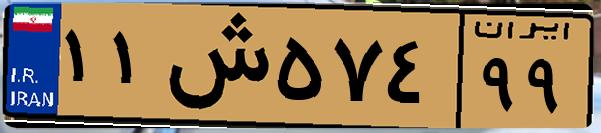1: (57, 26, 110, 100), (110, 28, 158, 98)
4: (385, 28, 445, 110)
5: (270, 28, 330, 110)
7: (330, 28, 385, 110)
9: (475, 38, 525, 113), (525, 38, 570, 115)
ش: (158, 12, 270, 120)
